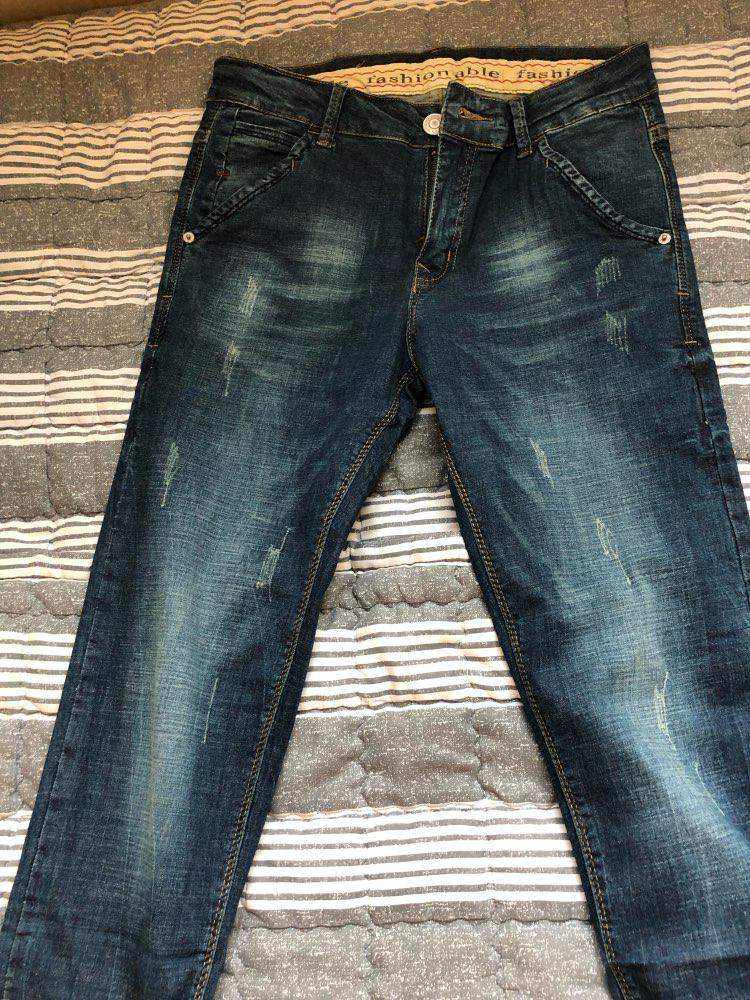jeans: (49, 56, 750, 966)
